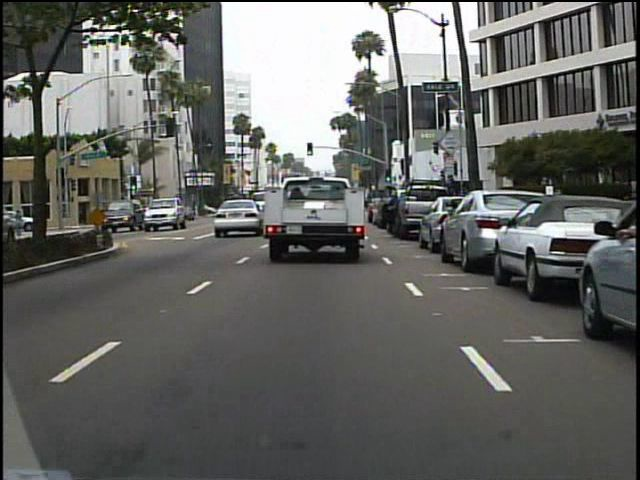person: (381, 184, 403, 235)
